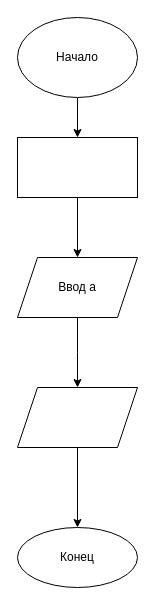
This 155x605 diagram has some shape labels left out. The shapes that lost their labels are listed below. From the top down, each one's box as (x1, y1, x2, y2) in pixels, then its label:
(16, 136, 138, 198): double a
(16, 386, 138, 448): Вывод S(a)
